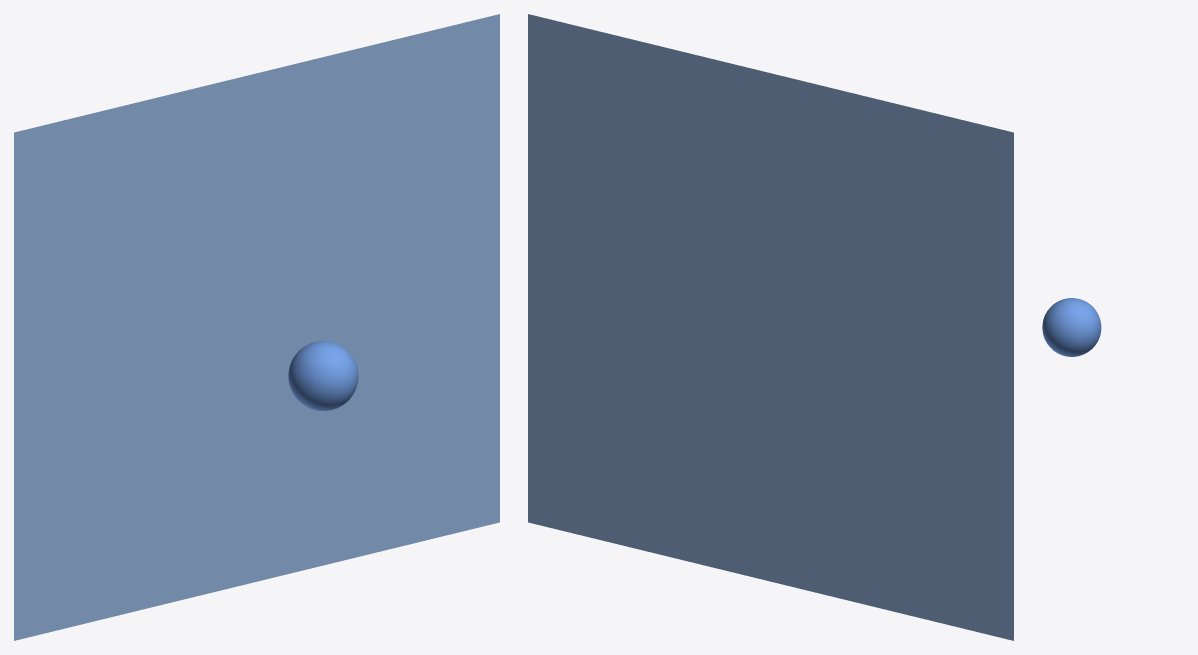
Rendered from abstract-sphere-node-based-organic-animation.glb.
3 views of the same model, side by side, from view 1: azimuth 30°, elevation 25°; view 2: azimuth 150°, elevation 25°; view 3: azimuth 270°, elevation 25° (orthographic). The views are drawn at different scales.
Visible parts, largest first — view 1: Plane, Icosphere; view 2: Plane; view 3: Icosphere.
Part boxes in pixels (left/top/right/bottom): Plane: left=14, top=14, right=499, bottom=640; Icosphere: left=288, top=341, right=358, bottom=411; Plane: left=528, top=14, right=1013, bottom=640; Icosphere: left=1042, top=298, right=1101, bottom=356.
Size of the model in its own units: 16 by 16 by 4.79.
